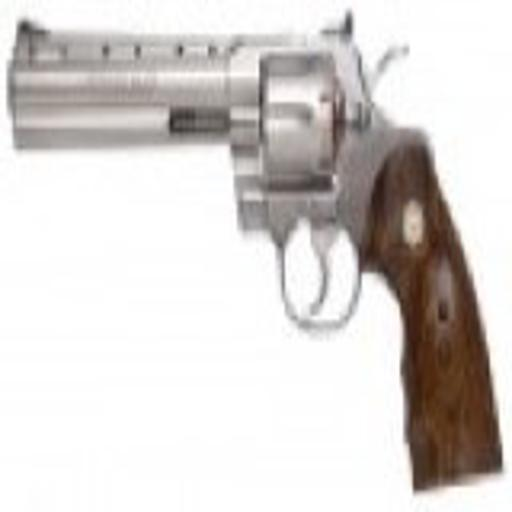Handgun: (5, 11, 504, 493)
